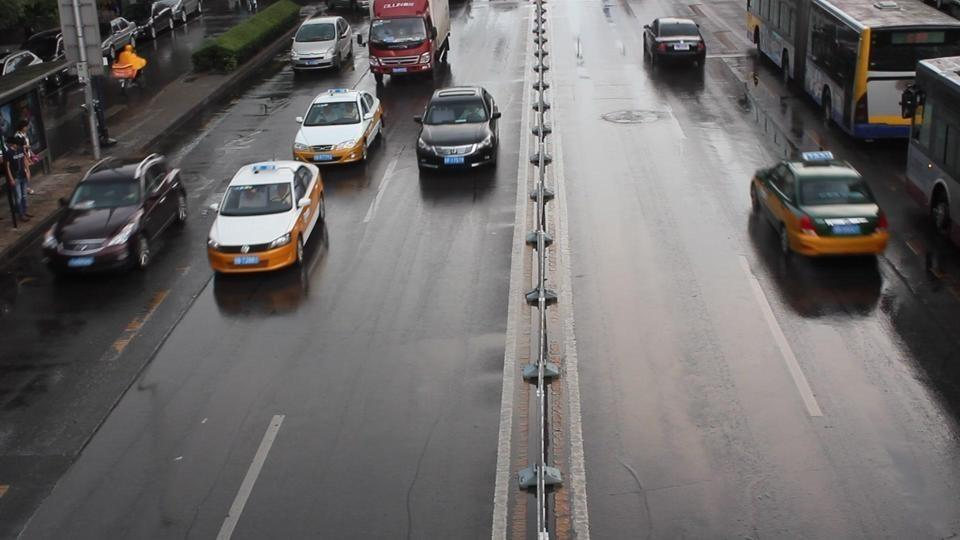car: (42, 152, 190, 279), (747, 159, 891, 258), (207, 159, 326, 277), (415, 86, 502, 171), (292, 88, 386, 163), (289, 16, 355, 73), (642, 16, 707, 69)
